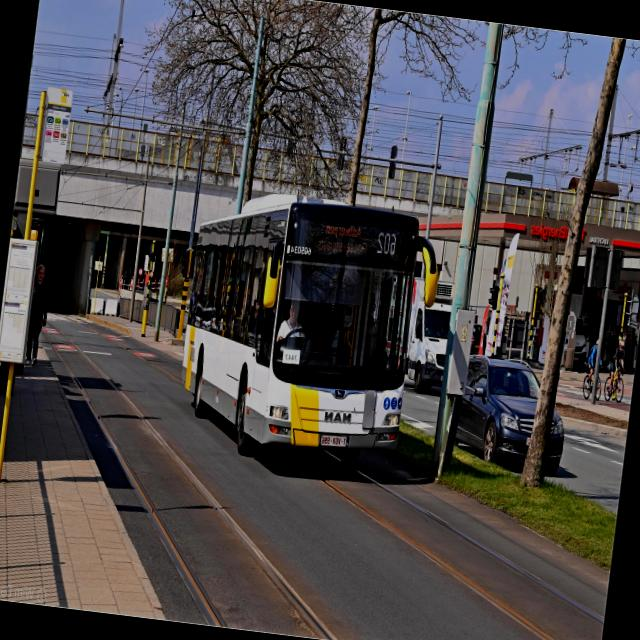bus-number: (375, 229, 398, 257)
